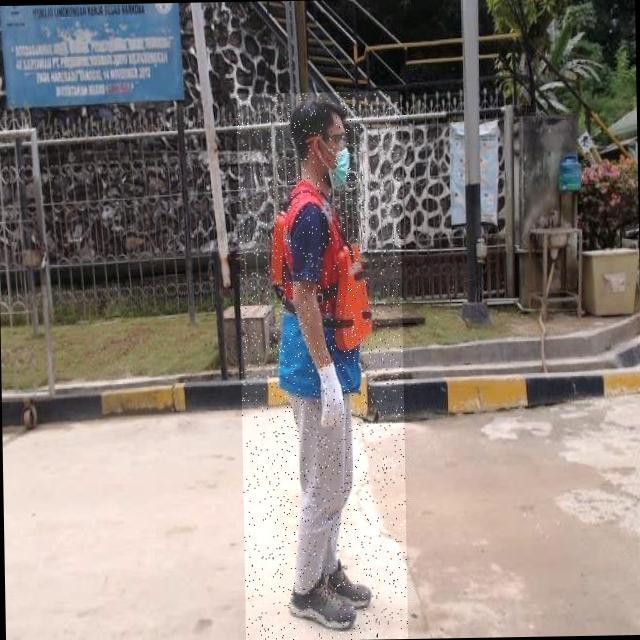Gloves: (309, 358, 364, 439)
Person: (243, 74, 419, 640)
Safety Boot: (289, 575, 360, 633), (316, 560, 373, 608)
Safety Vest: (272, 178, 376, 399)
no-helmet: (279, 94, 354, 123)
